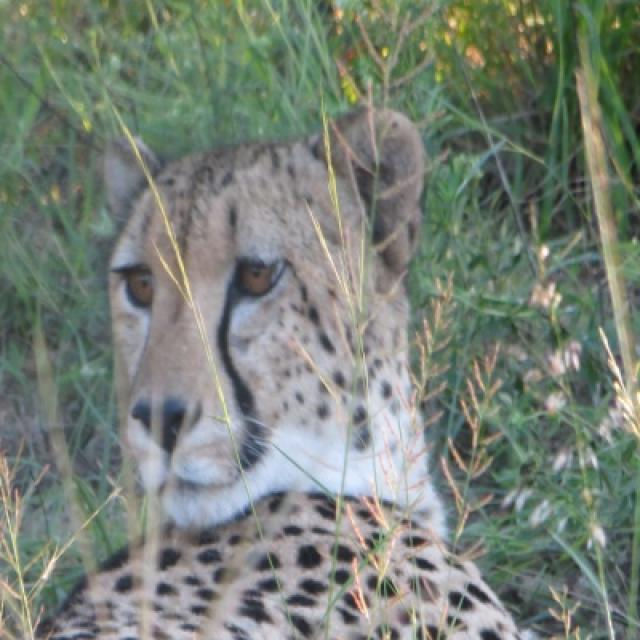Cheetah: (31, 101, 530, 637)
